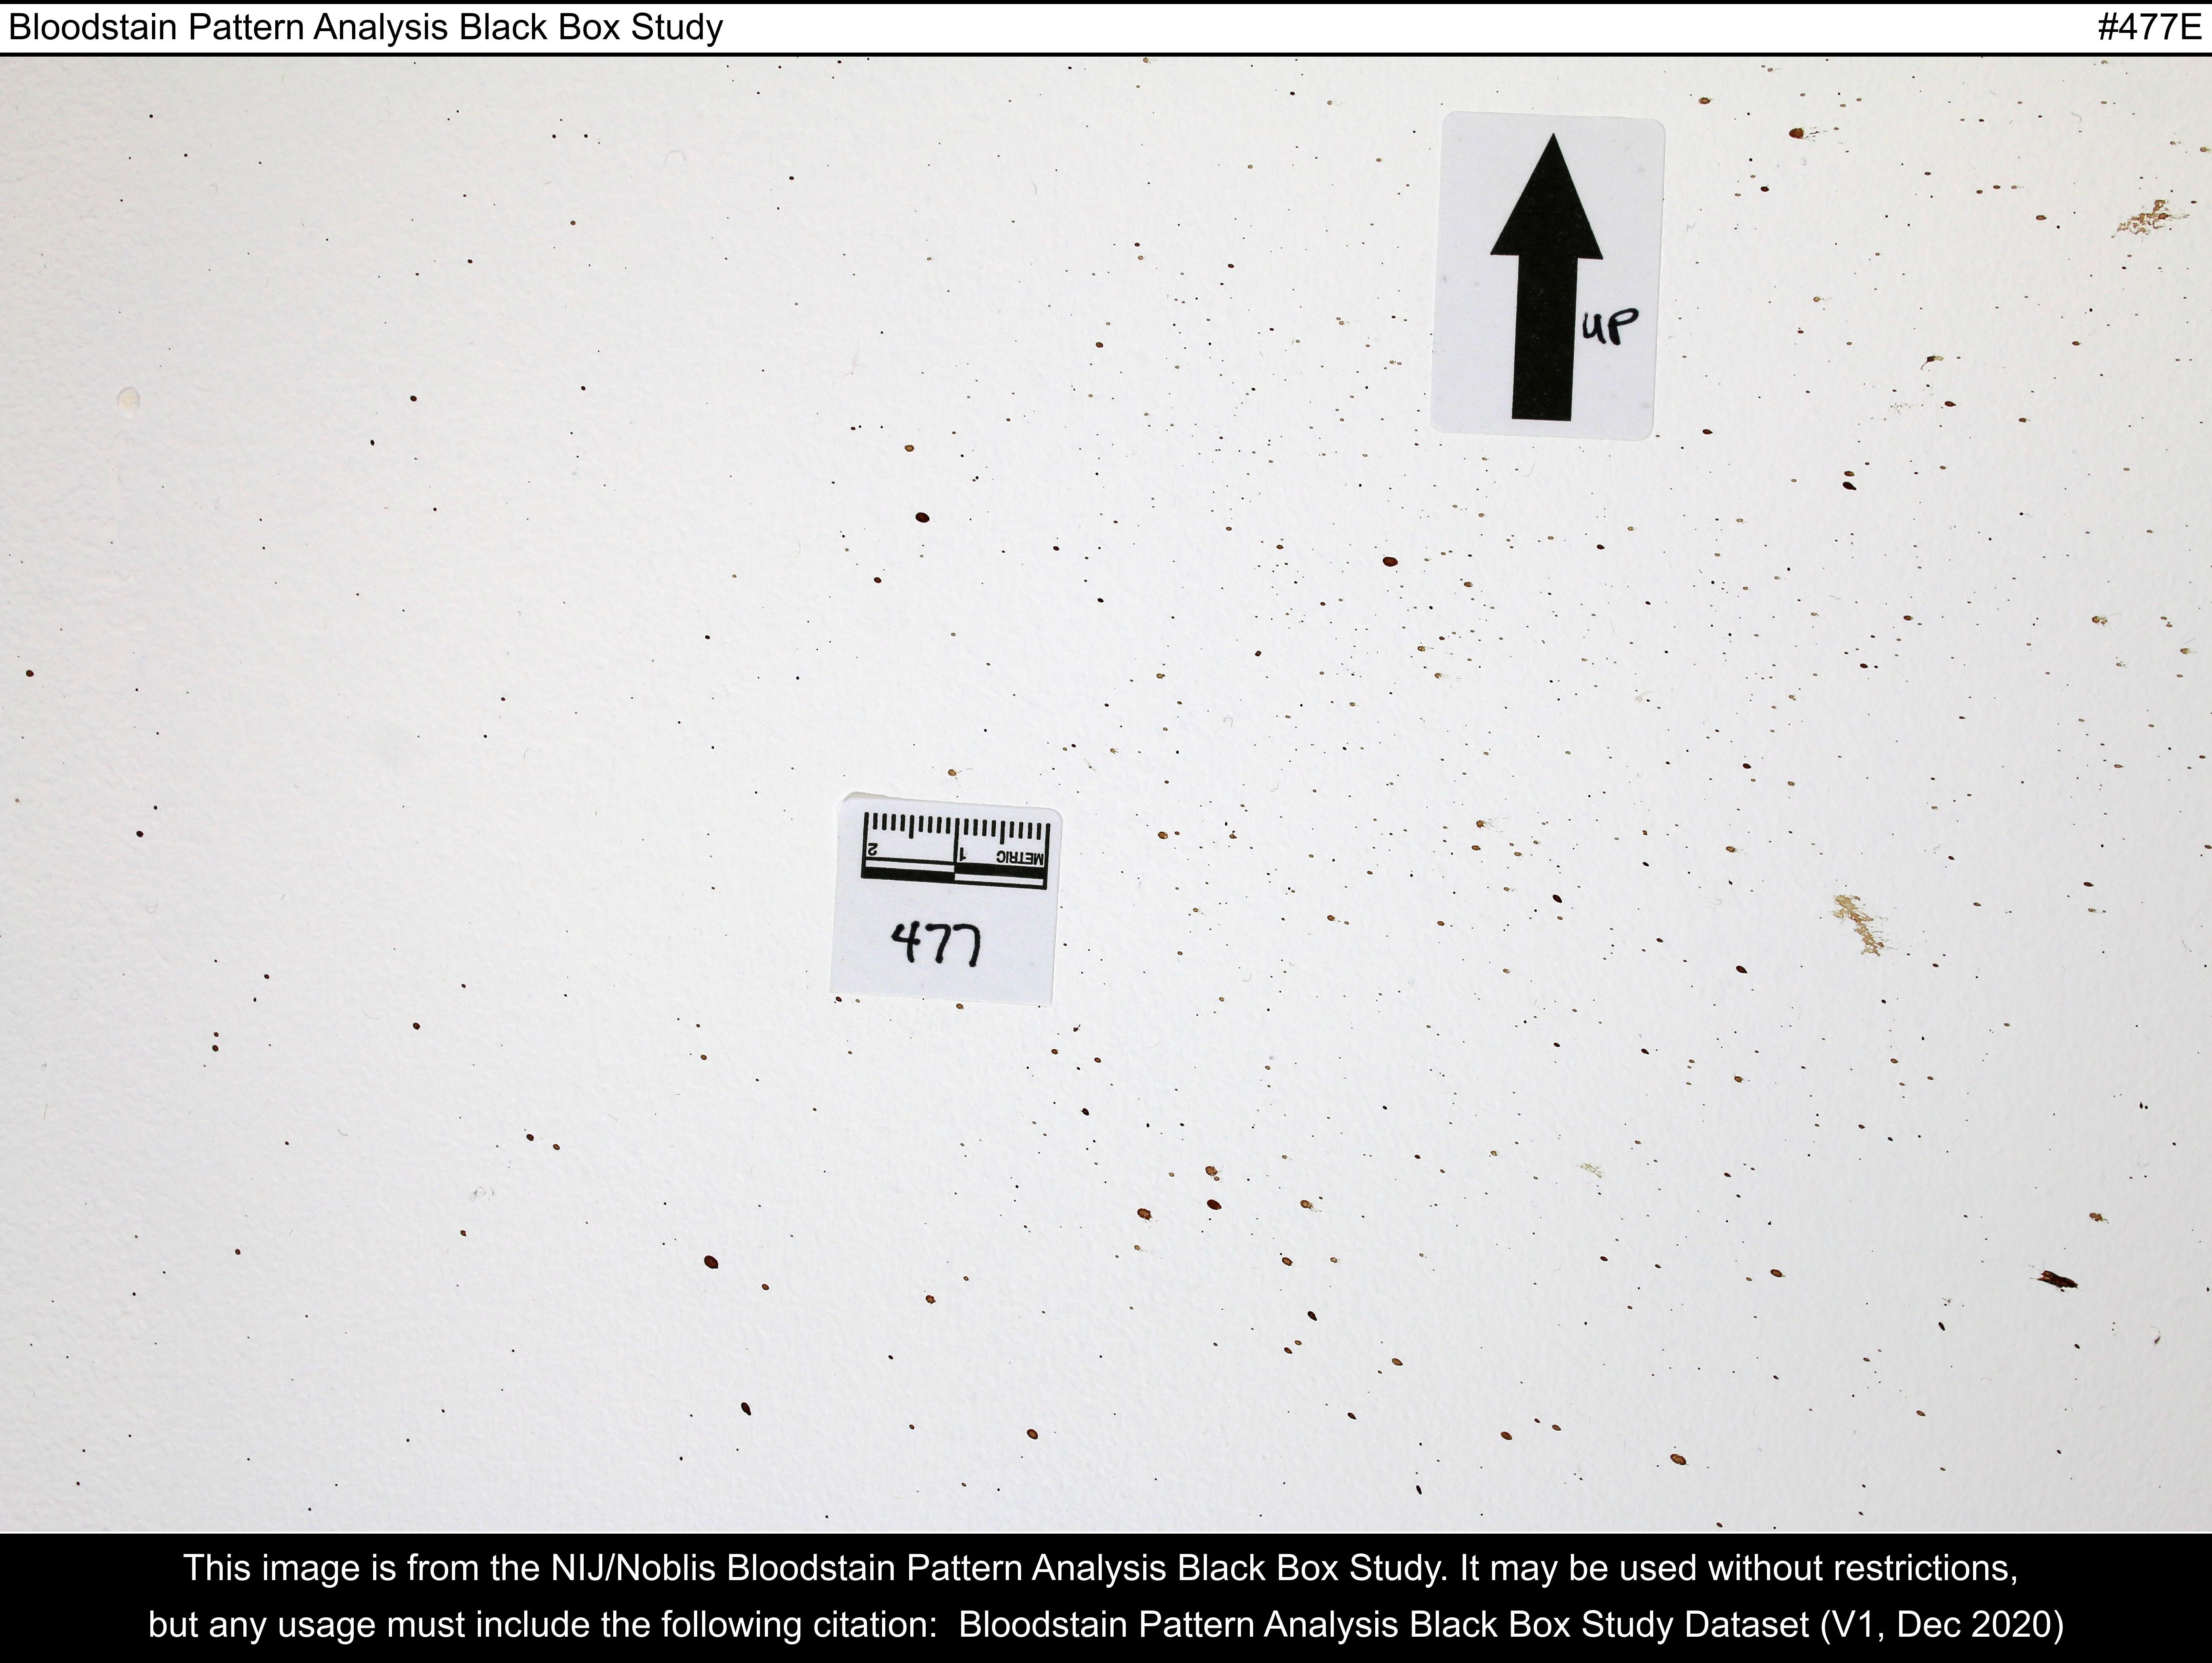Impact: (843, 266, 2212, 1542), (0, 648, 843, 1522)
